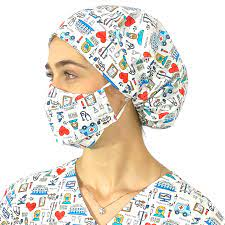with_mask_and_cap: (46, 6, 130, 150)
